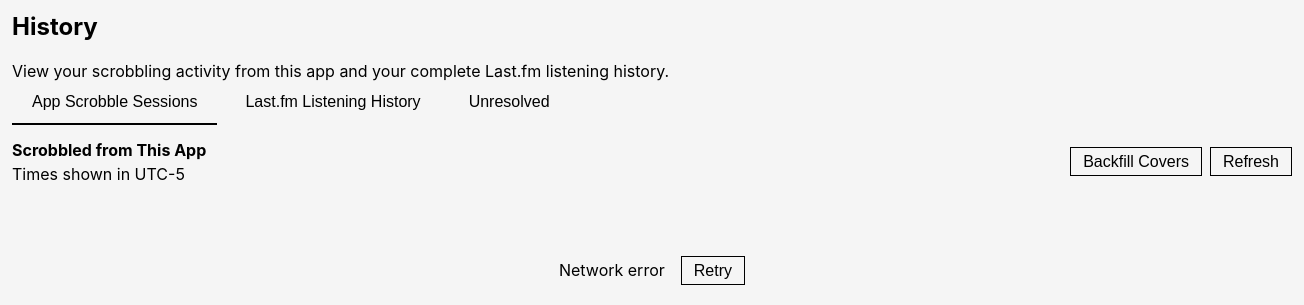
Test case: HistoryPage › Refresh Functionality › allows retrying when loading fails
Expected: the button "Retry" is shown, left=694, top=261, right=732, bottom=280
What coordinates should you click on to do the following:
click the button "Retry"
I would click on:
 (713, 270)
Its box is left=681, top=256, right=745, bottom=285.
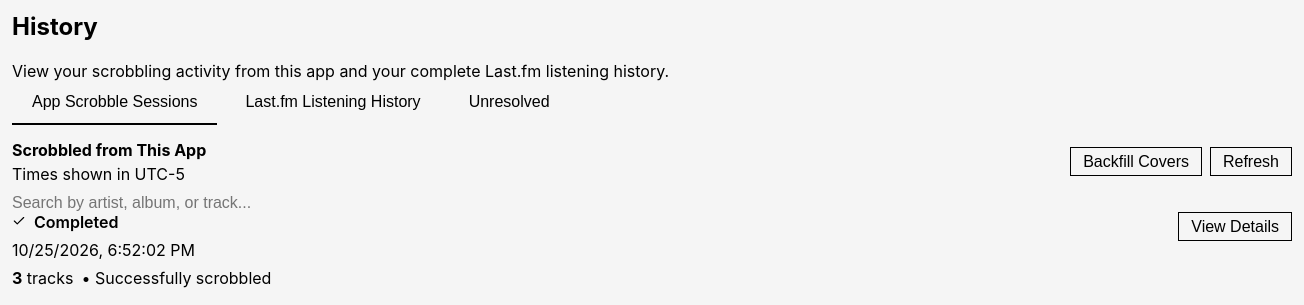
Expected: the text "completed" is shown, left=34, top=212, right=118, bottom=232
